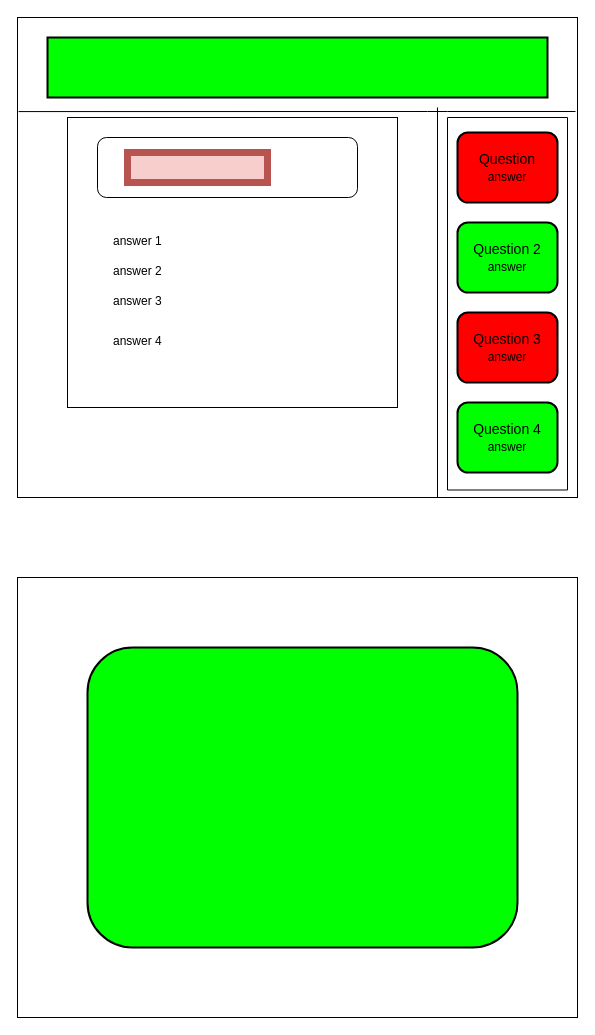
Some shapes in this 595 by 1035 pixel diagram are drawn without their labels. The shapes that lost their labels are listed below. From the top down, each one's centre as x and y in pixels, then its label:
point 197,167: Question
point 302,797: You Done quiz Your score: 100
